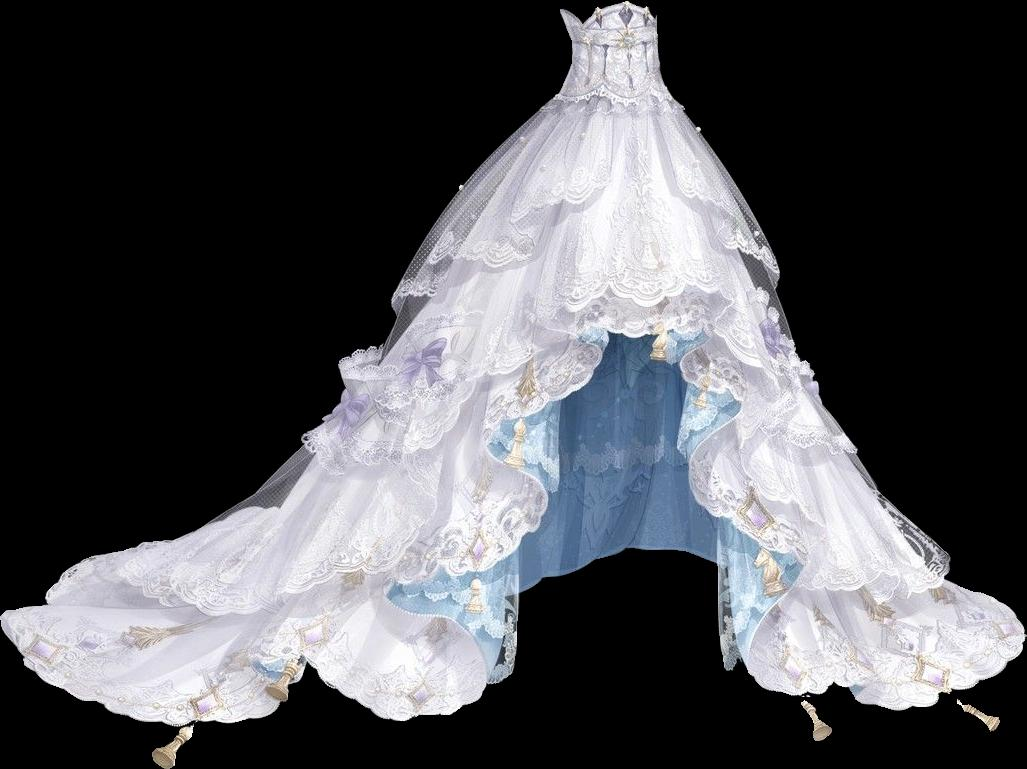Hemline: (381, 305, 799, 700), (296, 277, 852, 475), (388, 105, 618, 313), (653, 104, 786, 290)
Waistline: (559, 0, 657, 30), (551, 84, 677, 106)
